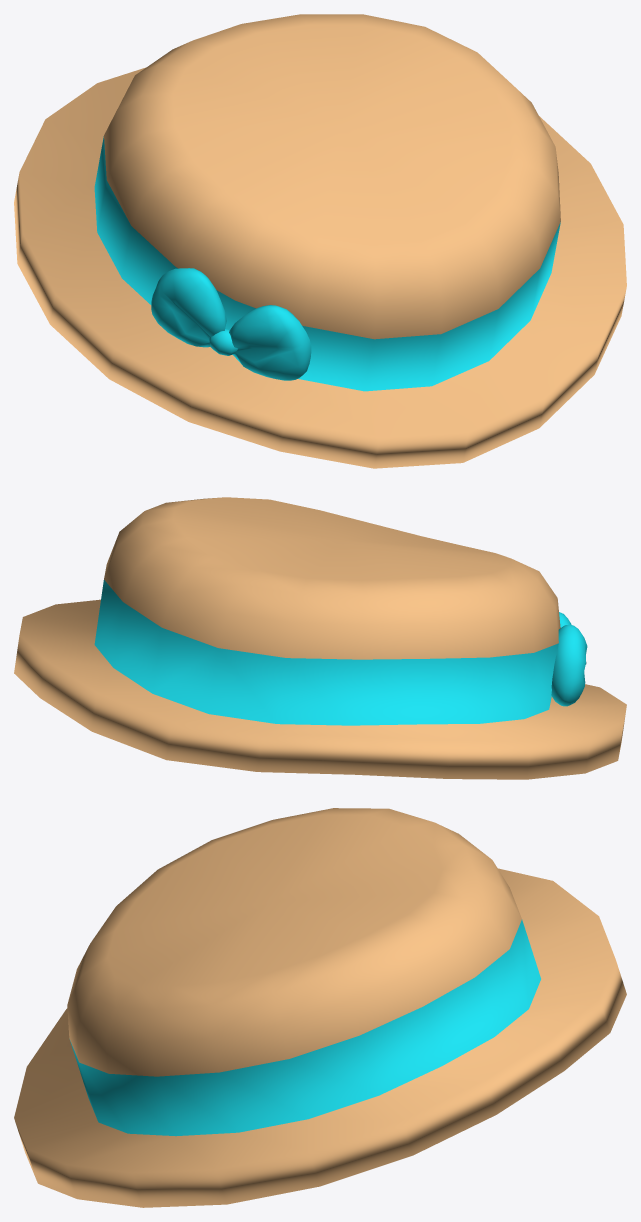
The model's file is Picnic_Hat.fbx.
3 renders of one model, top to bottom at view 1: azimuth 30°, elevation 25°; view 2: azimuth 150°, elevation 25°; view 3: azimuth 270°, elevation 25°, orthographic.
Parts seen in each view (by area): view 1: picnic_hat; view 2: picnic_hat; view 3: picnic_hat.
Boxes of the visible parts, left/top/right/bottom form: picnic_hat: left=14, top=14, right=626, bottom=468; picnic_hat: left=14, top=497, right=626, bottom=779; picnic_hat: left=14, top=808, right=626, bottom=1207.
Size of the model in its own units: 32.44 by 16.17 by 31.73.
1 material, 1 textured.
